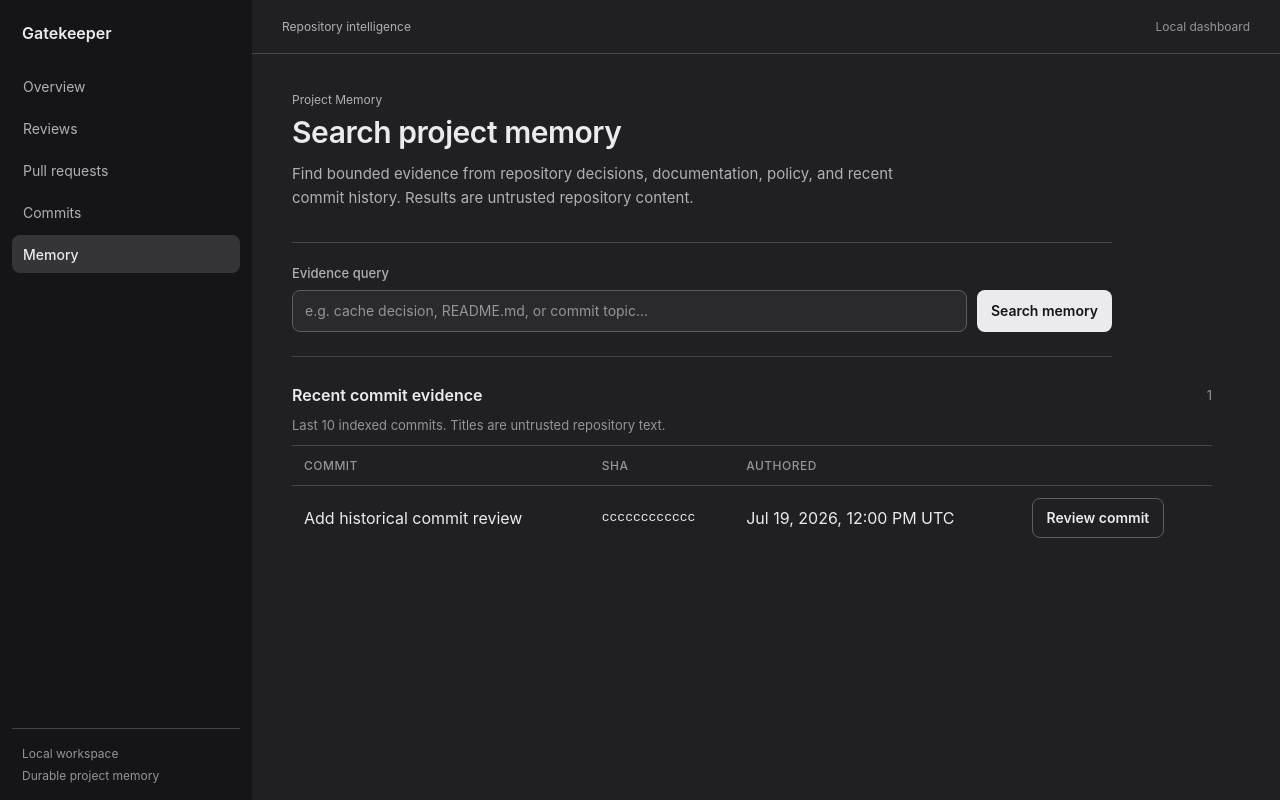
Project Memory search › shows bounded retryable errors
In the search field labelled "Evidence query": (629, 310) [292,290,967,332], type "redis"
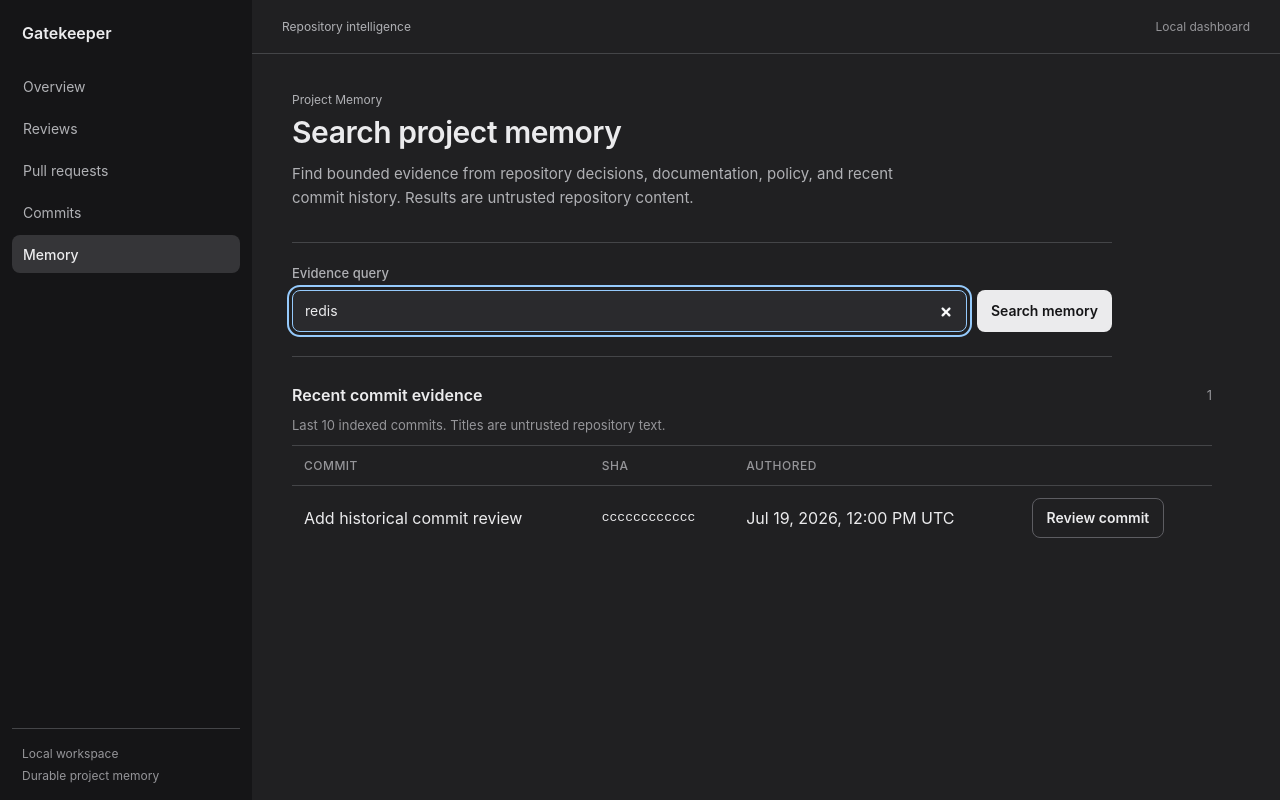
Click the button "Search memory": (1044, 310) [977,290,1112,332]
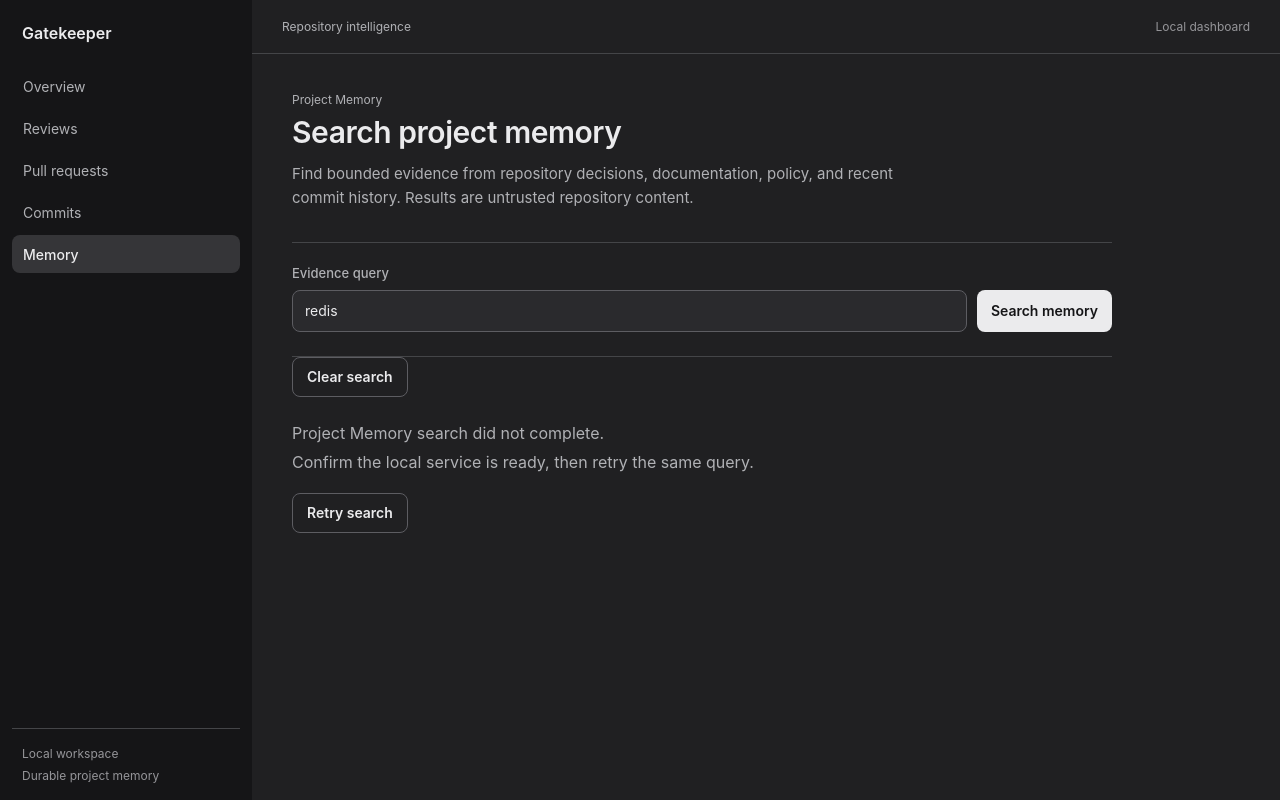
Expected: the message does not show "private indexed content", [292,422,754,533]
Click the button "Retry search": (350, 513) [292,493,408,533]
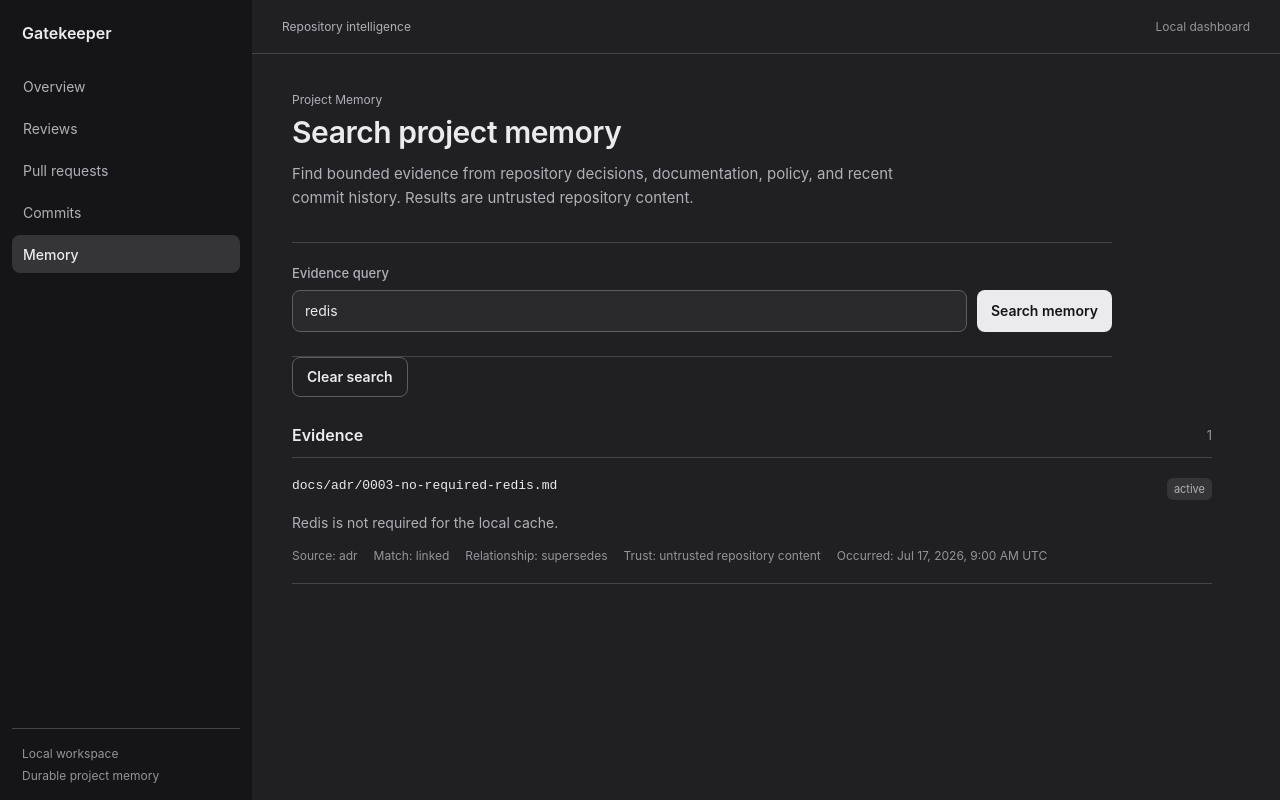
Expected: the text "Redis is not required for the local cache." is shown, [292,514,558,530]
